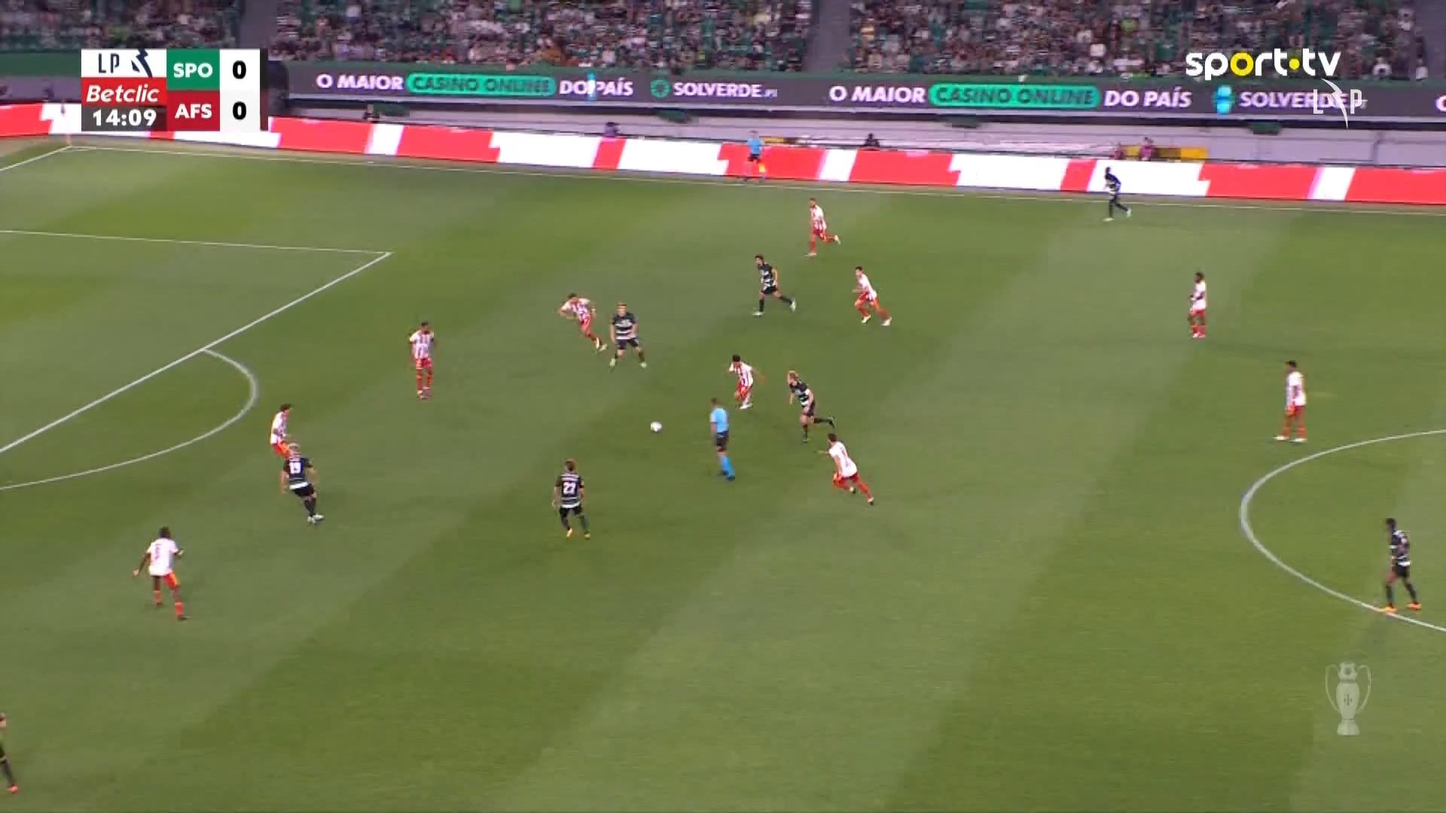ball: (649, 421, 661, 433)
player: (131, 525, 189, 621), (816, 431, 875, 506), (1380, 516, 1422, 615), (279, 443, 325, 523), (786, 368, 834, 443), (551, 458, 591, 540), (556, 292, 606, 353), (751, 253, 796, 316), (1274, 359, 1307, 443), (607, 301, 647, 368), (851, 264, 892, 326), (407, 320, 436, 399), (725, 353, 765, 410), (804, 197, 841, 257), (1101, 165, 1132, 221), (0, 711, 19, 793), (1186, 270, 1207, 338), (269, 402, 293, 460)
referee: (708, 396, 735, 480), (743, 129, 767, 182)
